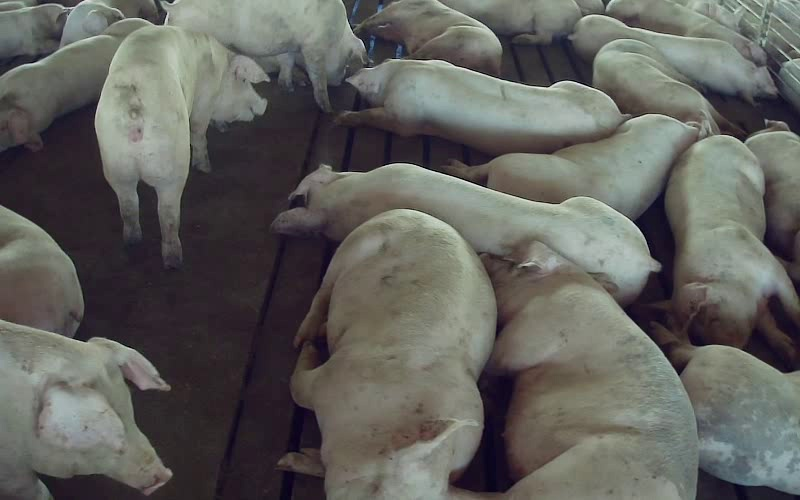pig: (291, 211, 494, 499), (271, 163, 659, 305), (483, 242, 697, 499), (95, 25, 267, 267), (665, 135, 799, 362), (336, 60, 625, 154), (444, 114, 698, 219), (651, 316, 799, 494), (165, 0, 366, 111), (0, 18, 151, 151), (569, 15, 777, 103), (593, 39, 741, 137), (354, 0, 501, 75), (606, 0, 765, 65), (745, 120, 799, 285)
